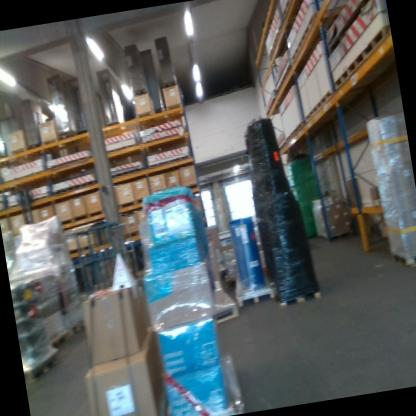pallet: (20, 346, 62, 384), (233, 276, 277, 311), (276, 283, 322, 309), (211, 287, 239, 324), (391, 248, 416, 270), (49, 328, 72, 350), (67, 317, 85, 334), (55, 131, 77, 141), (131, 88, 147, 97), (27, 141, 42, 150), (162, 80, 177, 89)
